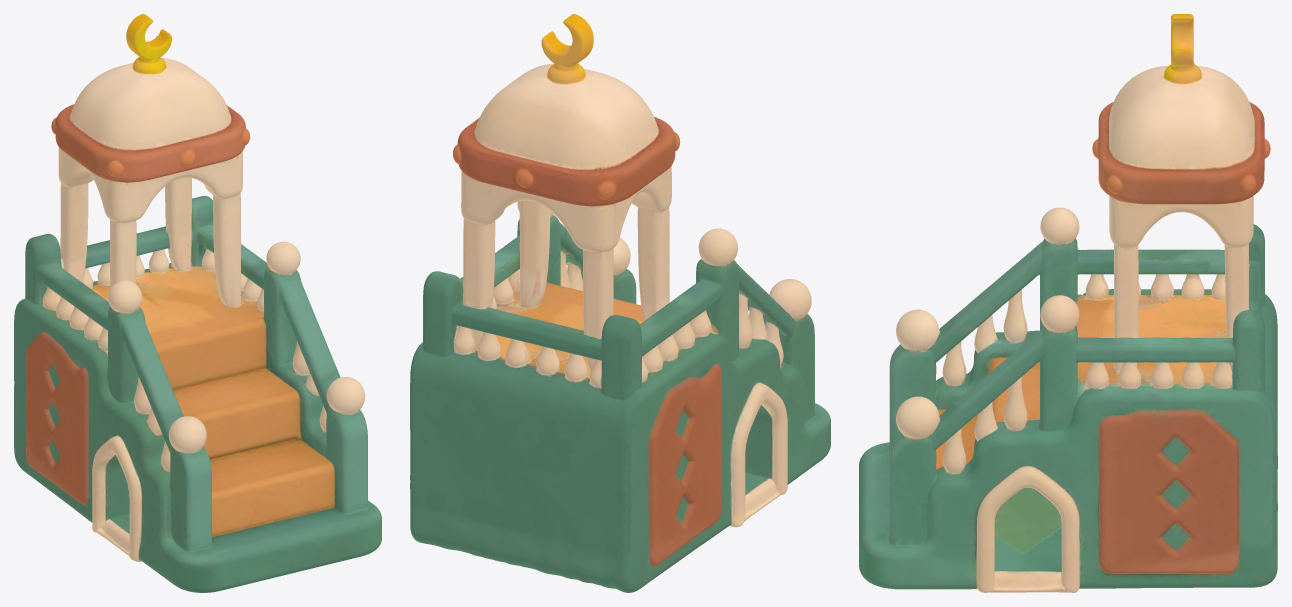
File: minbar-variant-08-round-tower.glb
3 views of the same model, side by side, from view 1: azimuth 30°, elevation 25°; view 2: azimuth 150°, elevation 25°; view 3: azimuth 270°, elevation 25° (orthographic). The views are drawn at different scales.
Visible parts, largest first — view 1: mesh_node; view 2: mesh_node; view 3: mesh_node.
Part boxes in pixels (x1,y1,x2,y2): mesh_node: [14, 14, 381, 592]; mesh_node: [410, 14, 830, 592]; mesh_node: [859, 14, 1277, 592].
Bounding box in the file's own units: 0.9215 × 1.9 × 1.39.
1 material, 1 textured.
